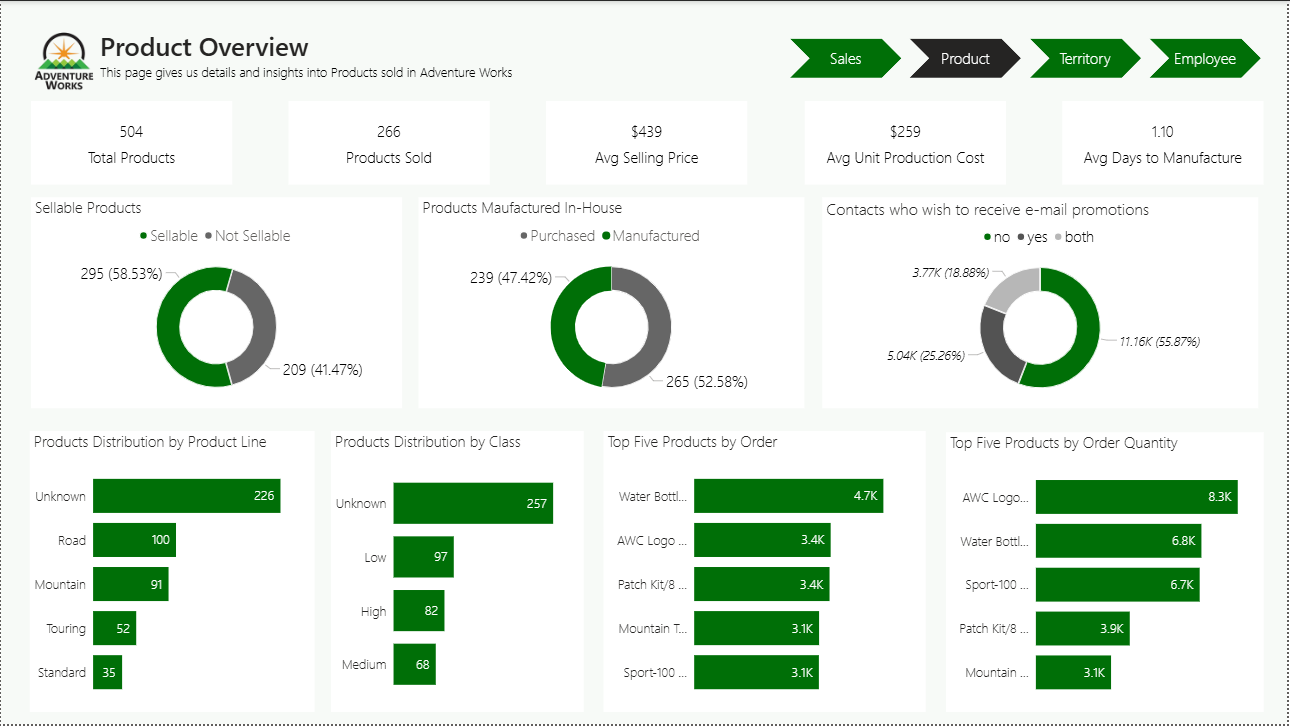

The page's visual inventory and layout, read from the dashboard file:
{"tool":"powerbi","page":{"name":"Product","canvas":[1800,1100],"ordinal":2},"visuals":[{"type":"card","fields":{"Values":["Production_Product.Nos of Product"]},"box":[17.1,136.8,342.1,104.5],"z":0},{"type":"card","fields":{"Values":["Count(Sales_SalesOrderDetail.ProductID)"]},"box":[388.2,136.8,323.1,104.5],"z":1000},{"type":"card","fields":{"Values":["Avg(Production_Product.ListPrice)"]},"box":[740.2,136.8,334.5,104.5],"z":2000},{"type":"textbox","box":[117.8,30.4,619.6,91.2],"z":3000},{"type":"image","box":[17.4,29.9,123.2,90.8],"z":4000},{"type":"card","fields":{"Values":["Avg(Production_Product.DaysToManufacture)"]},"box":[1457.7,136.8,323.1,104.5],"z":5000},{"type":"donutChart","title":"Percentage of Sellable Products","fields":{"Category":["Production_Product.FinishedGoodsFlag"],"Y":["CountNonNull(Production_Product.Name)"]},"box":[17.1,258.5,551.1,383.9],"z":6000},{"type":"donutChart","title":"Percentage of Products Maufactured In-House","fields":{"Category":["Production_Product.MakeFlag"],"Y":["CountNonNull(Production_Product.Name)"]},"box":[589.2,258.5,564.4,383.9],"z":7000},{"type":"barChart","title":"Products Distribution by Product Line","fields":{"Y":["CountNonNull(Production_Product.Name)"],"Category":["Production_Product.ProductLine"]},"box":[15.2,663.3,406.7,421.9],"z":8000},{"type":"barChart","title":"Products Distribution by Class","fields":{"Y":["CountNonNull(Production_Product.Name)"],"Category":["Production_Product.Class"]},"box":[446.6,663.3,448.5,421.9],"z":9000},{"type":"card","fields":{"Values":["Avg(Production_Product.StandardCost)"]},"box":[1103.7,136.8,325,104.5],"z":10000},{"type":"donutChart","title":"Percentage of Contacts who wish to receive e-mail promotions","fields":{"Y":["CountNonNull(Person_Person.email promotion)"],"Category":["Person_Person.email promotion"]},"box":[1178.3,258.5,602.5,383.9],"z":11000},{"type":"scatterChart","title":"Top Five Products by Total Order and Order Quantity","fields":{"X":["Sum(Sales_SalesOrderDetail.OrderQty)"],"Category":["Production_Product.Name"],"Y":["Sales_SalesOrderDetail.SalesOrderID"]},"box":[916,663.3,864.7,421.9],"z":12000},{"type":"pageNavigator","box":[1178.3,43.7,602.5,57],"z":13000}]}

Visuals, with their boxes on the page's 1800x1100 design canvas (x1, y1, x2, y2). These are canvas units, not pixel positions in the 1290x727 screenshot, which may show the page scaled, cropped or inside an application window:
card - Production_Product.Nos of Product: left=17, top=137, right=359, bottom=241
card - Count(Sales_SalesOrderDetail.ProductID): left=388, top=137, right=711, bottom=241
card - Avg(Production_Product.ListPrice): left=740, top=137, right=1075, bottom=241
textbox: left=118, top=30, right=737, bottom=122
image: left=17, top=30, right=141, bottom=121
card - Avg(Production_Product.DaysToManufacture): left=1458, top=137, right=1781, bottom=241
"Percentage of Sellable Products" donutChart: left=17, top=258, right=568, bottom=642
"Percentage of Products Maufactured In-House" donutChart: left=589, top=258, right=1154, bottom=642
"Products Distribution by Product Line" barChart: left=15, top=663, right=422, bottom=1085
"Products Distribution by Class" barChart: left=447, top=663, right=895, bottom=1085
card - Avg(Production_Product.StandardCost): left=1104, top=137, right=1429, bottom=241
"Percentage of Contacts who wish to receive e-mail promotions" donutChart: left=1178, top=258, right=1781, bottom=642
"Top Five Products by Total Order and Order Quantity" scatterChart: left=916, top=663, right=1781, bottom=1085
pageNavigator: left=1178, top=44, right=1781, bottom=101
